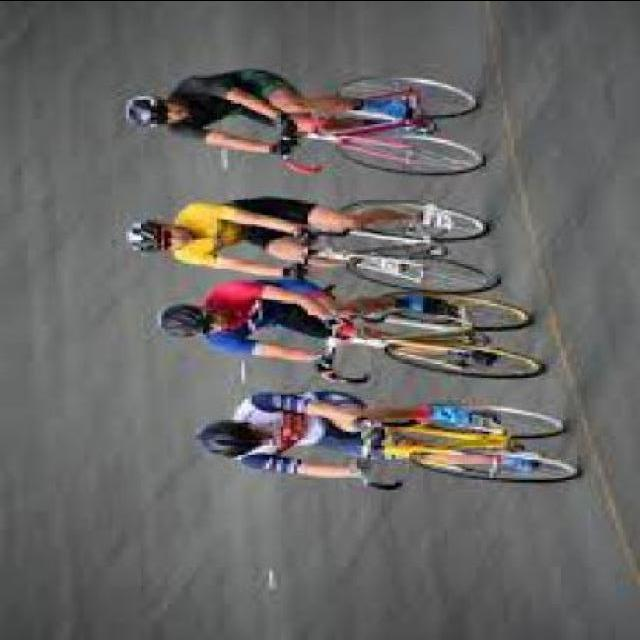bicycle: (333, 397, 615, 500), (301, 281, 557, 389), (272, 53, 478, 176), (273, 189, 485, 292)
